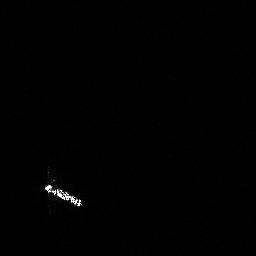ship: (41, 178, 87, 210)
